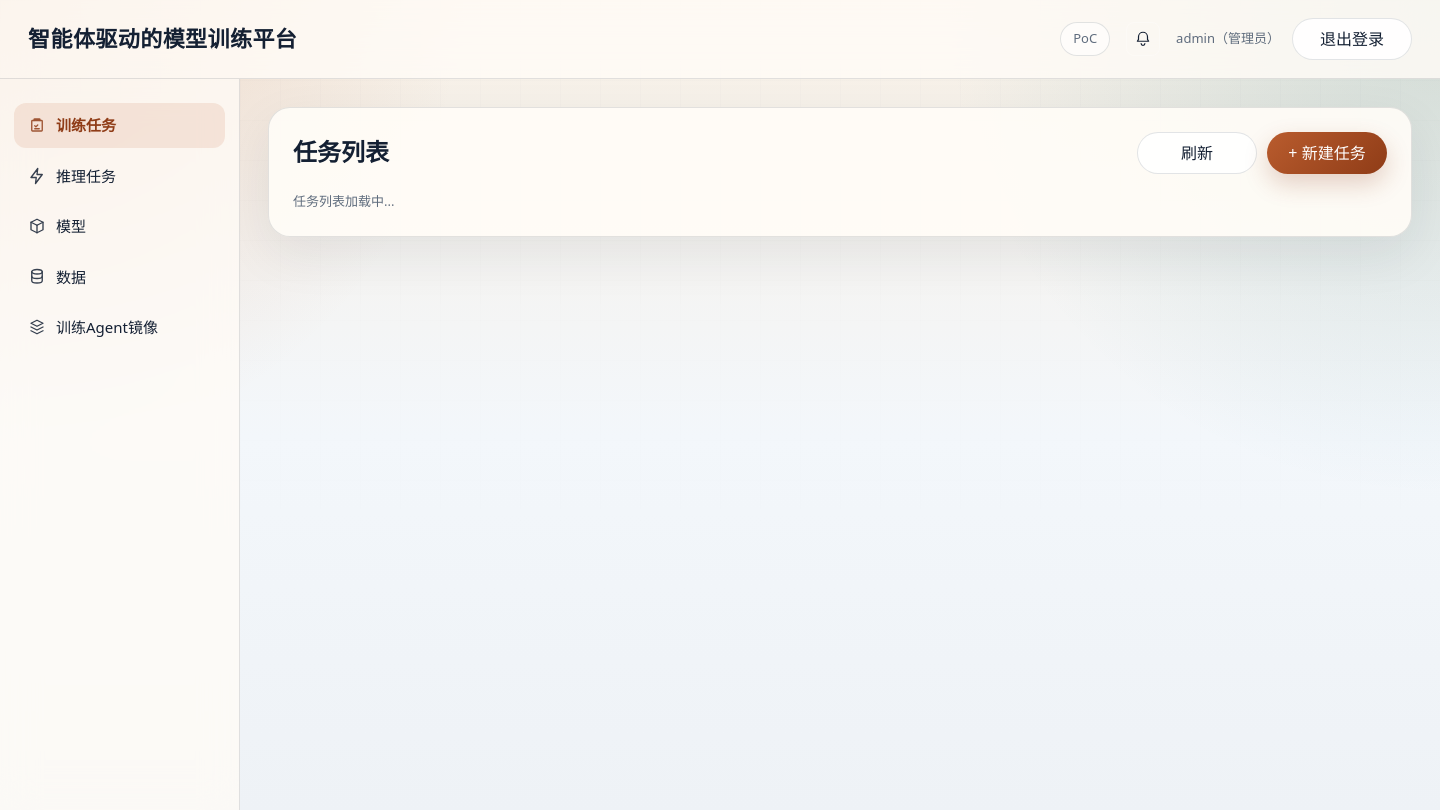
App navigation shell › switches to models menu, lists models, and opens model detail
Click the button with test id "sidebar-menu-models": (120, 226) [14,204,225,248]
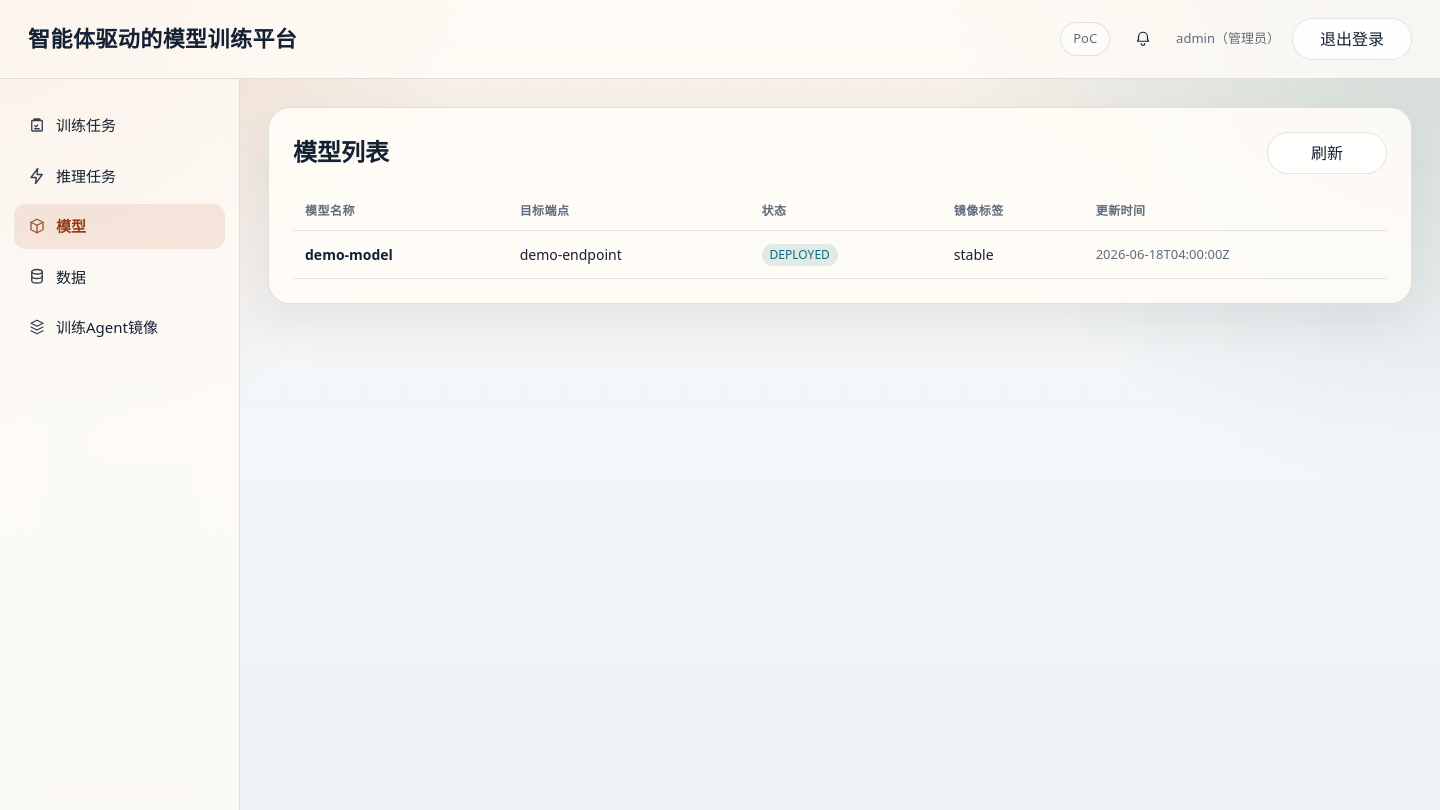
Check: the button with test id "model-list-item-model-1" is shown
Click the button with test id "model-list-item-model-1": (840, 254) [293,230,1387,278]
(page scrolled)
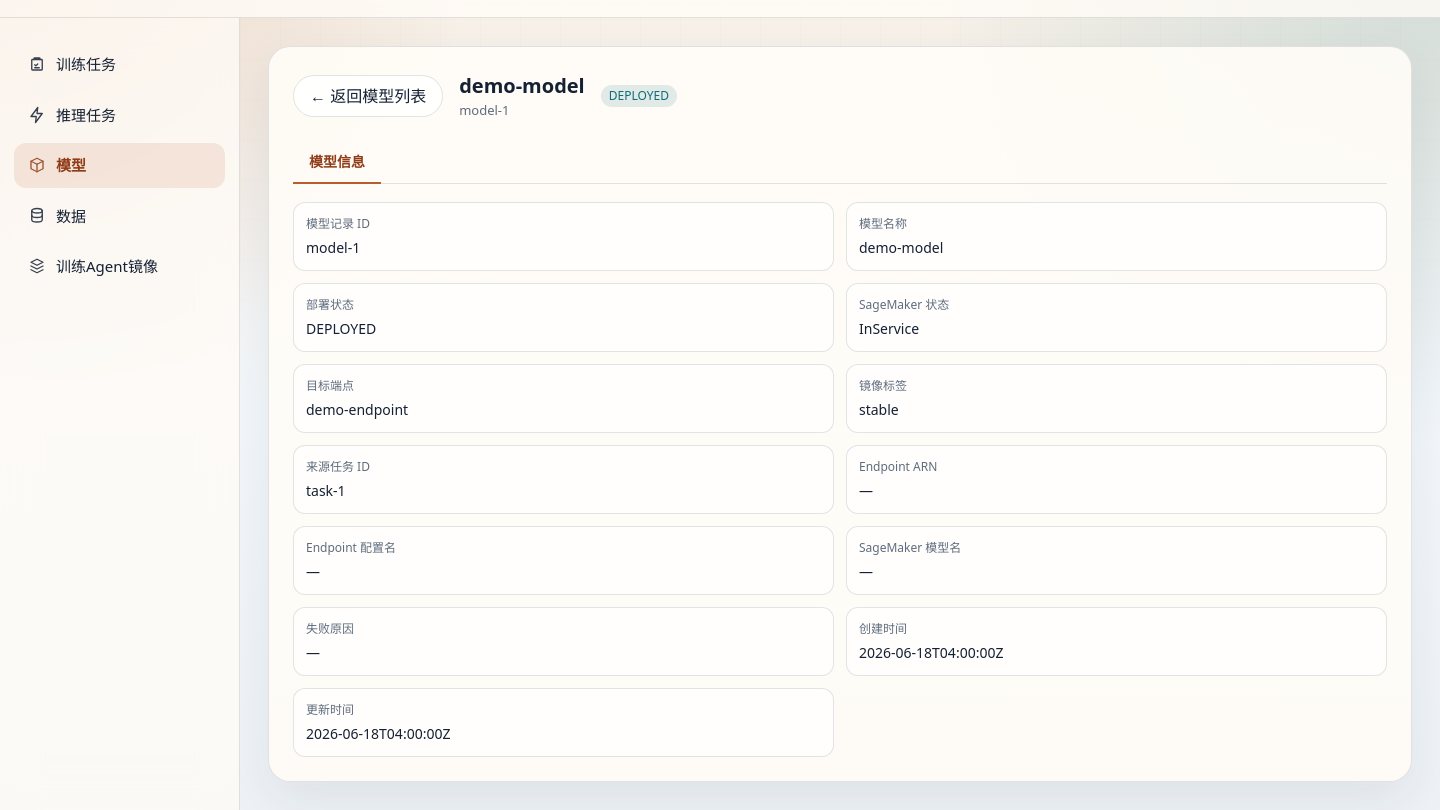
Check: the element with test id "model-detail-view" is shown
Check: the element with test id "model-detail-info" is shown, box [293,202,1387,756]
